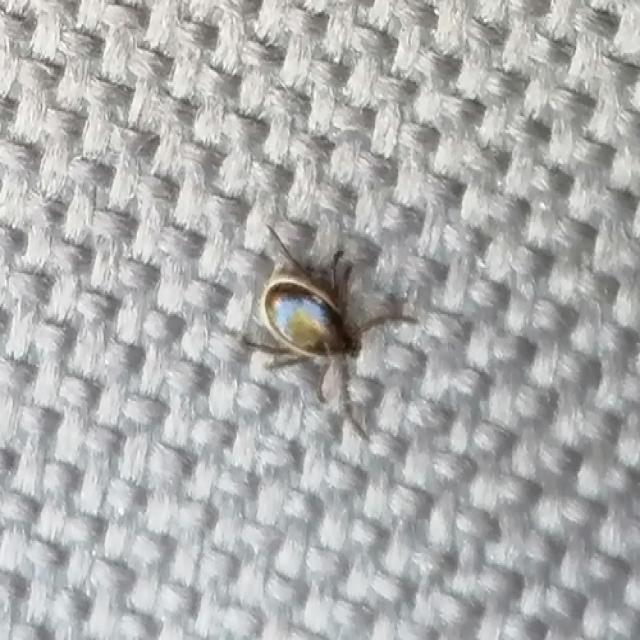Ixodes Ricinus-M: (242, 222, 419, 449)
